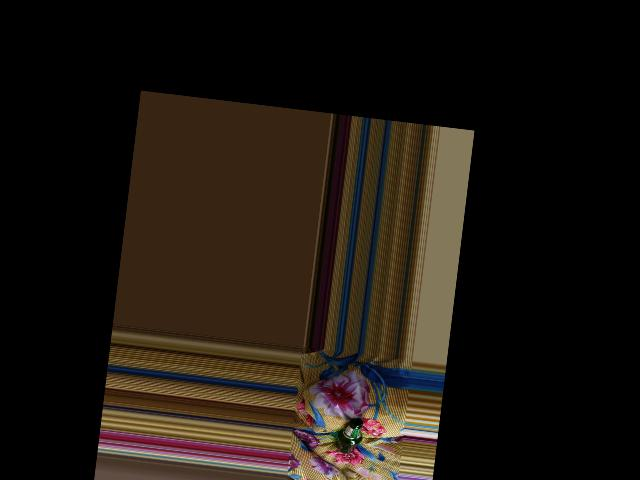beer: (336, 415, 364, 455)
